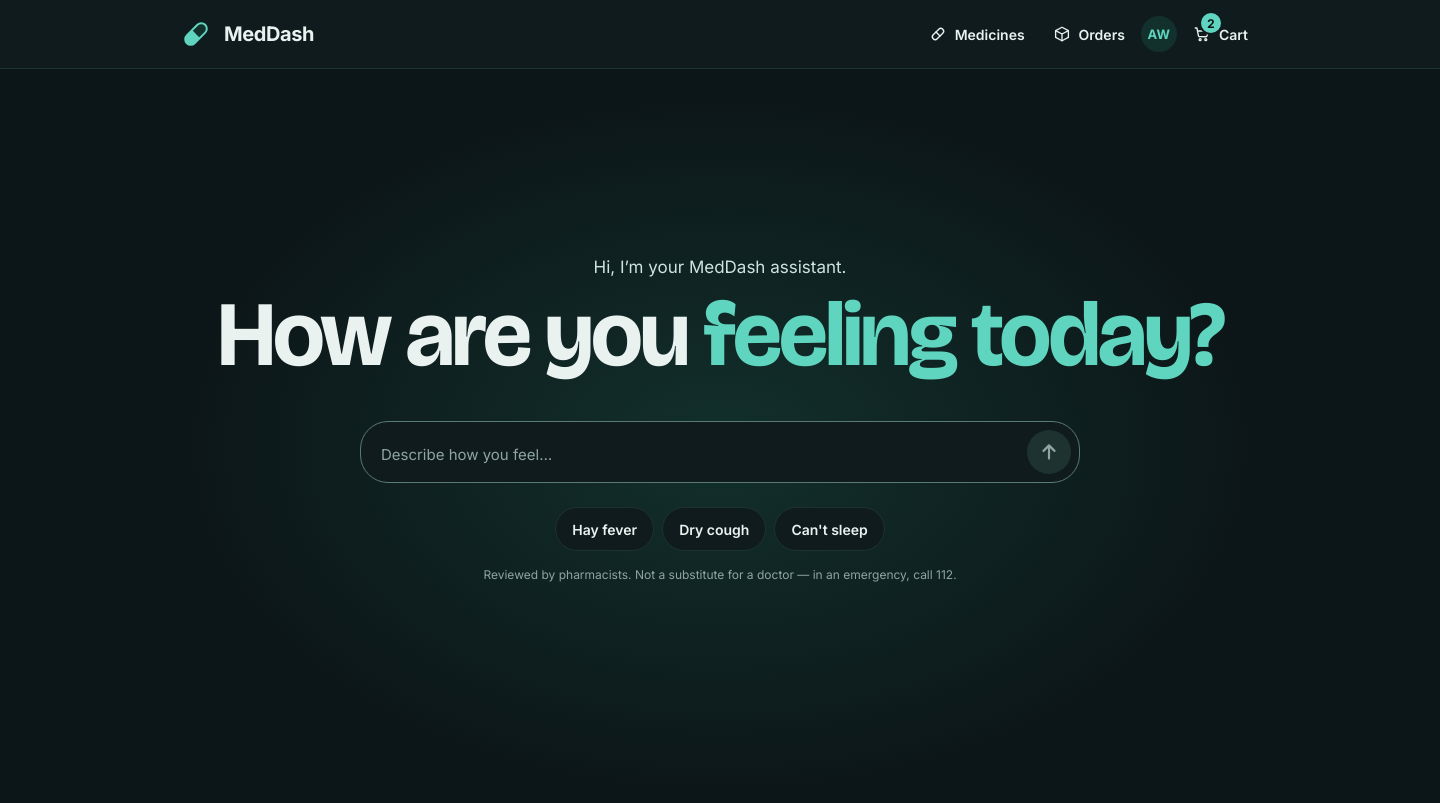
Test: App routes › the conversation › survives going to Medicines and back
expect the button with aria-label "Account menu" is shown: met, box [1141, 16, 1177, 52]
Click the button "Hay fever". click: (605, 529)
box: [555, 507, 654, 551]
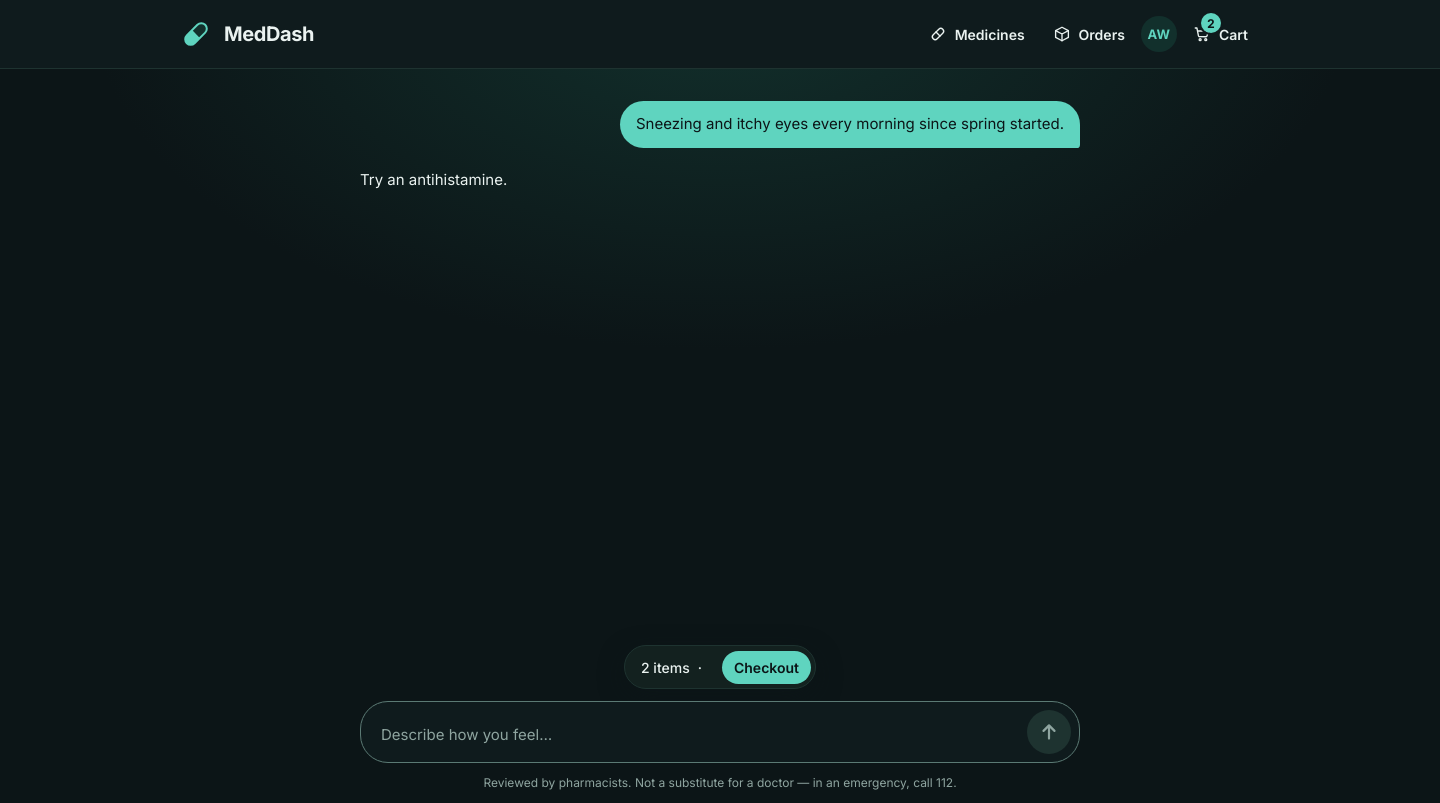
expect the list named "Conversation" shows "Try an antihistamine.": met, box [360, 170, 507, 188]
Click the link "Medicines". click: (977, 34)
box: [929, 25, 1025, 43]
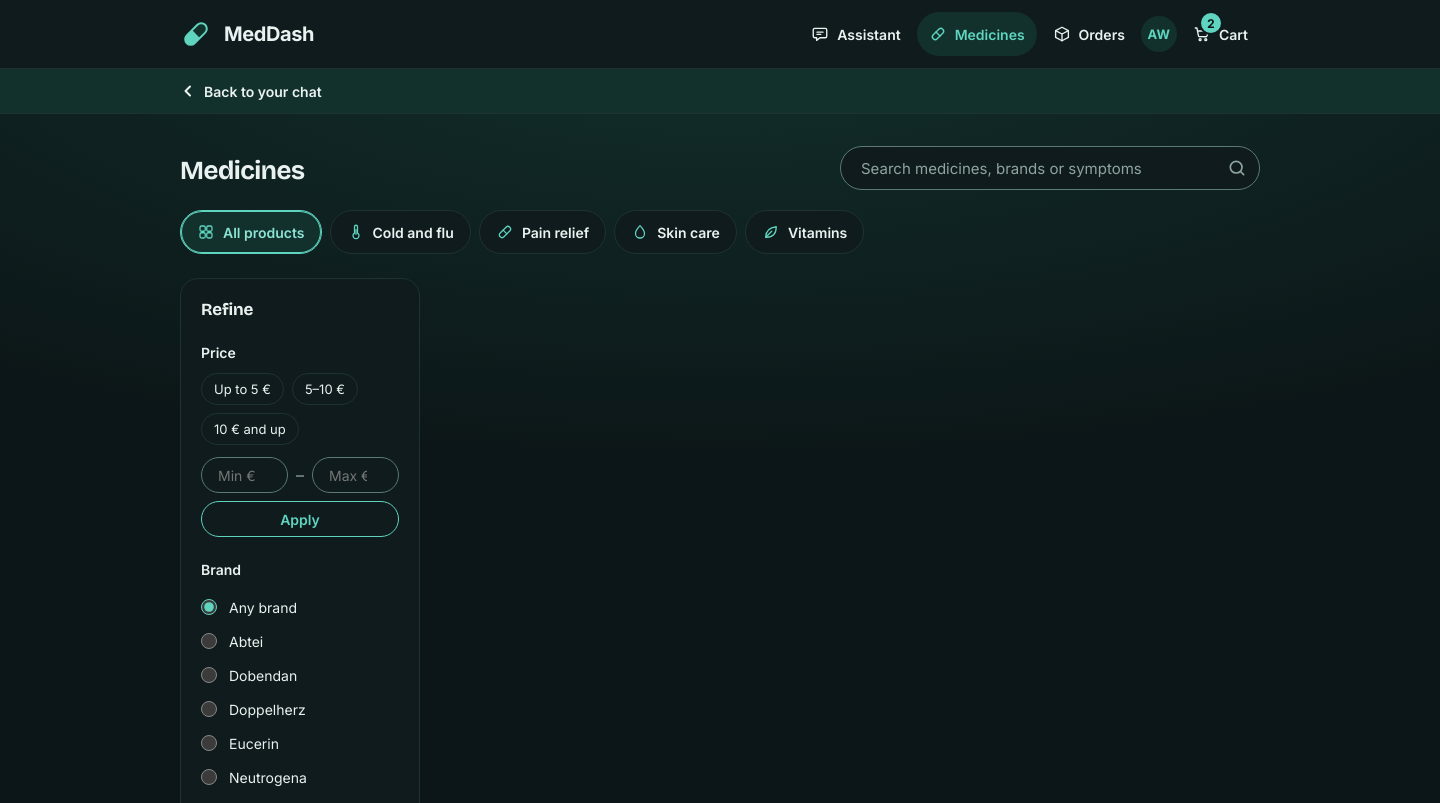
expect the heading "Medicines" is shown: met, box [180, 155, 304, 186]
Click the link "Assistant". click: (856, 34)
box: [811, 25, 901, 43]
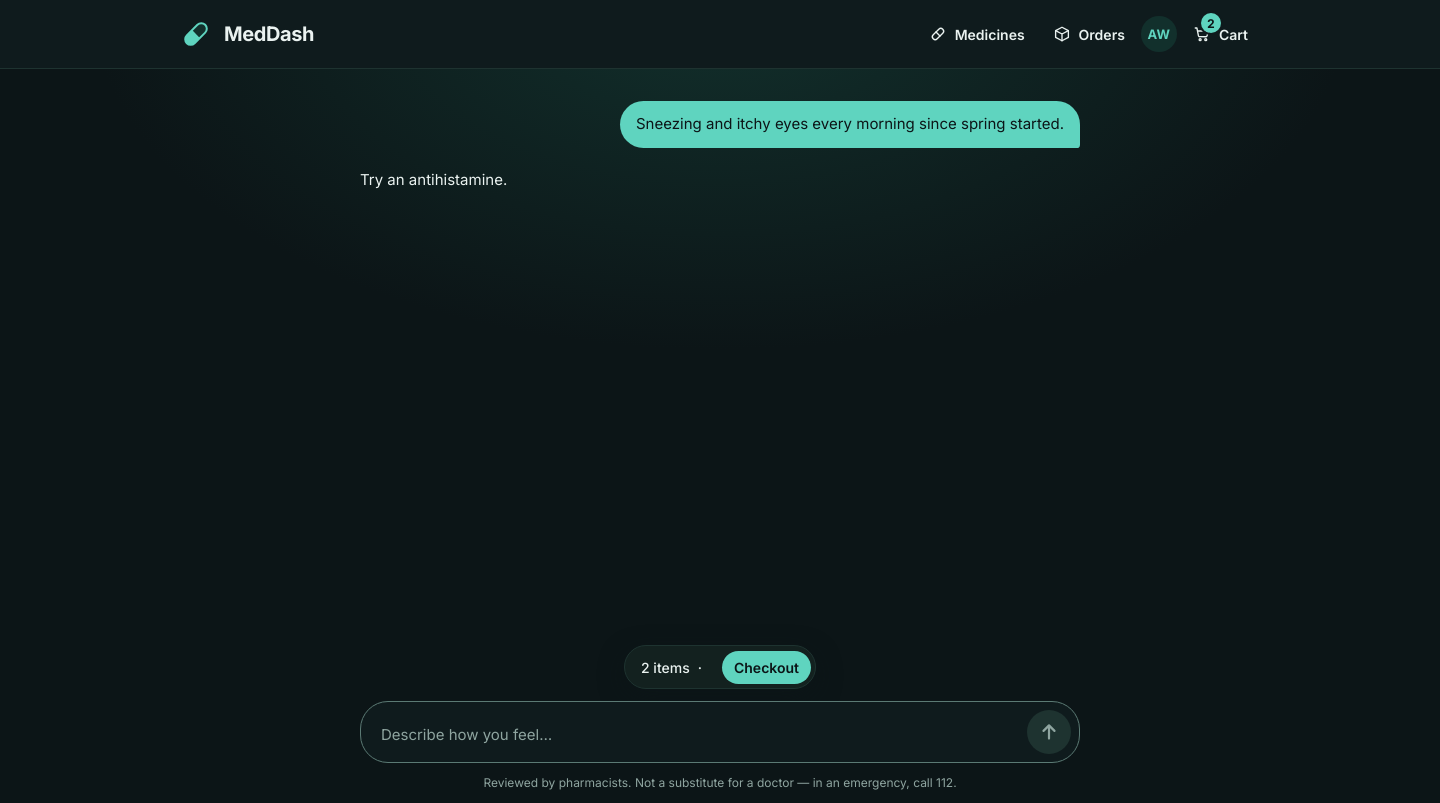
expect the list named "Conversation" shows "Try an antihistamine.": met, box [360, 170, 507, 188]
